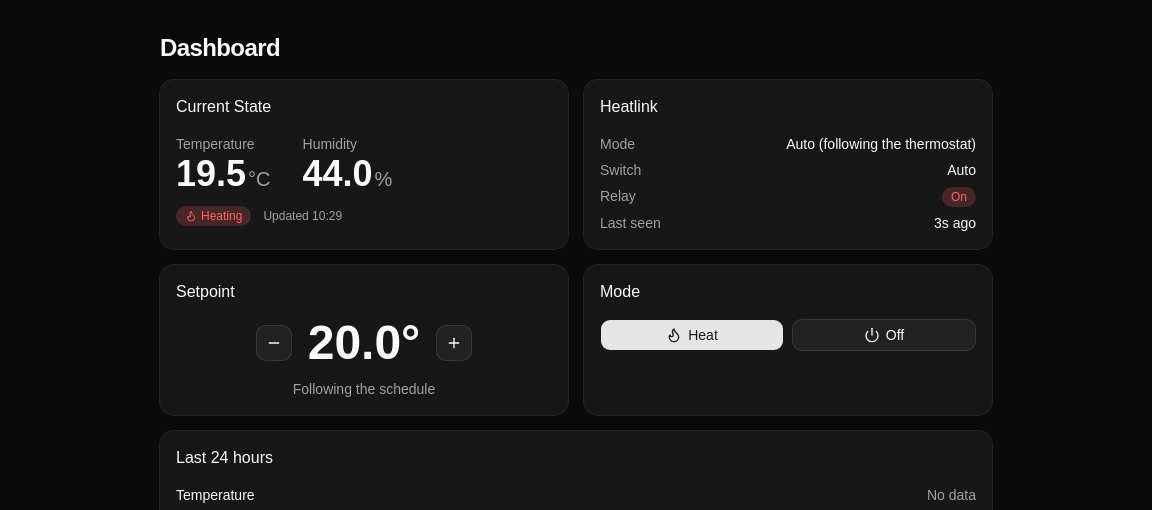
Test: Dashboard pending values › keeps the pending setpoint until /state agrees, refetching every 3 s
Expected: the text "19.5" is shown, [176, 153, 246, 194]
What coordinates should you click on to do the following:
click the button named "Increase setpoint"
I would click on:
 (454, 343)
Its box is [436, 325, 472, 361].
Wait 10150 ms
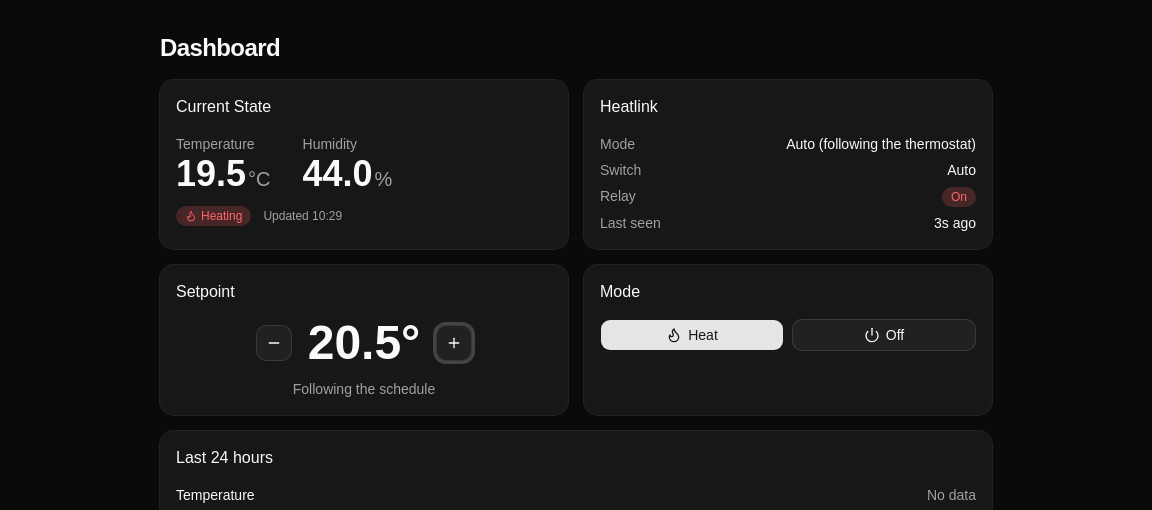
Expected: the text "Waiting for the thermostat…" is shown, [293, 379, 435, 399]
Now the text named "Target temperature" reads "20.5°", box [308, 319, 420, 367]
